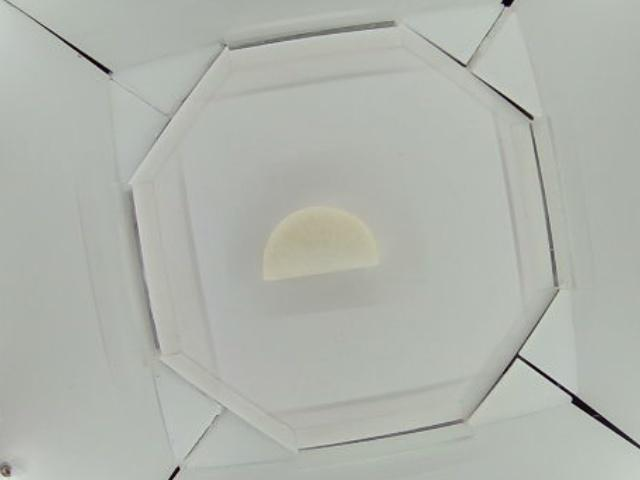Mooli: (260, 208, 382, 278)
